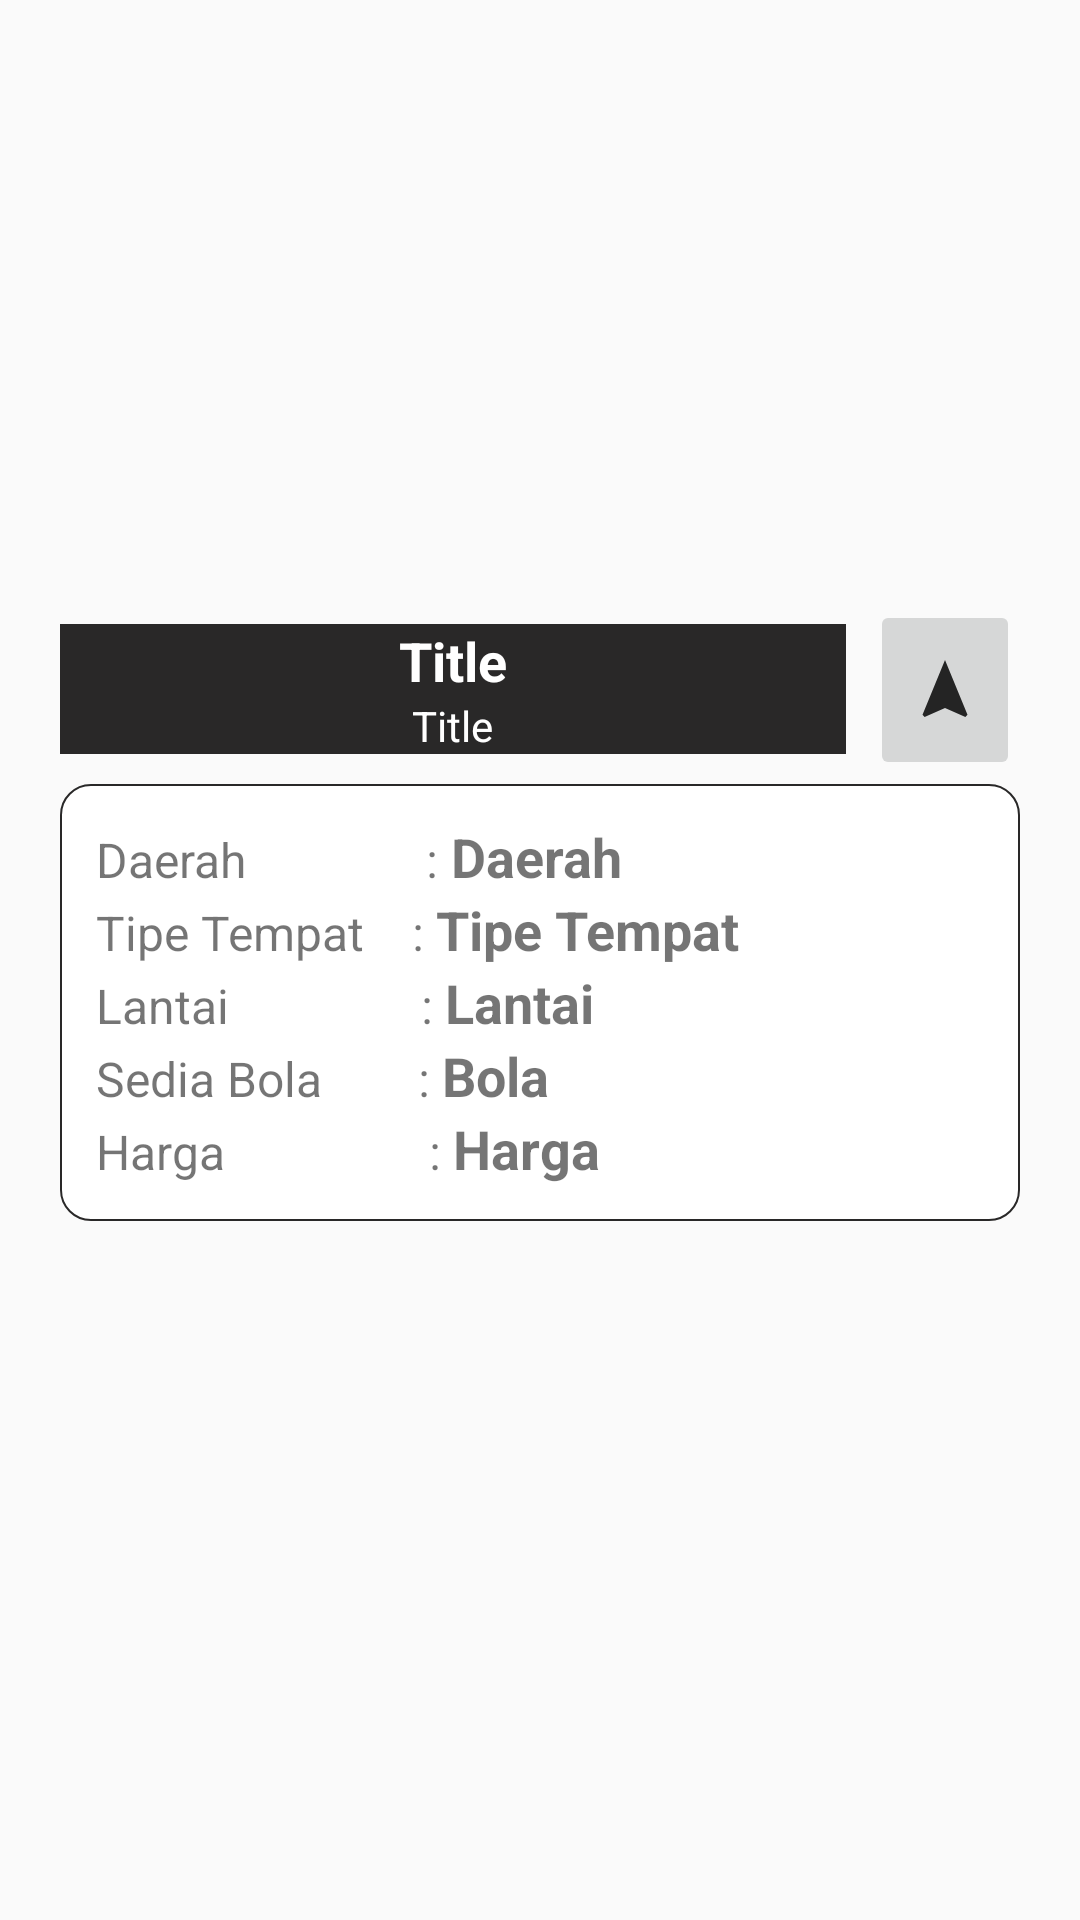

Icon click points for this 1080*1920 phone screenshot, format (x,y):
navigation: (945,690)
